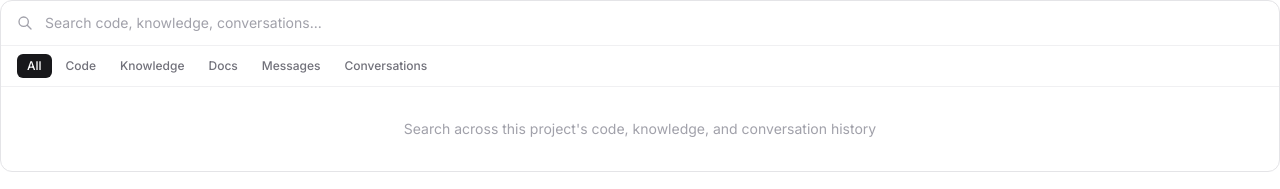
Test case: SearchPanel › shows no results message when empty
Type "nonexistent" into the field with placeholder "Search code, knowledge, conversations...". click: {"x": 654, "y": 23}
box: [45,13,1263,33]
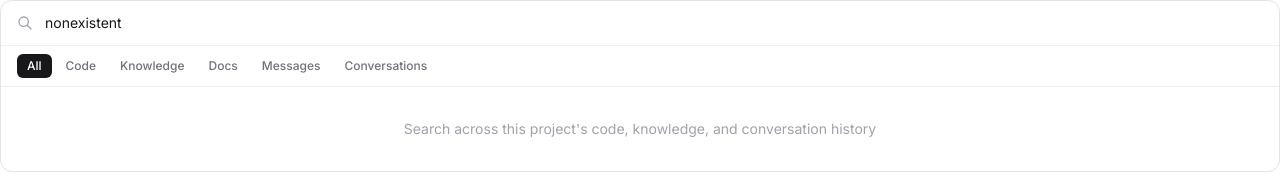
Press Enter in the field with placeholder "Search code, knowledge, conversations...", box [45,13,1263,33]
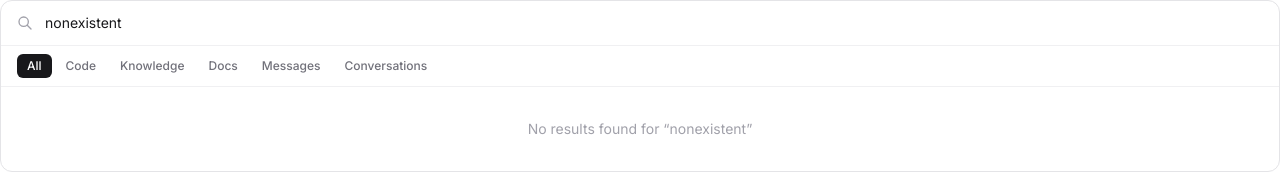
Expected: the text "No results found for “nonexistent”" is shown, [528,120,752,137]
